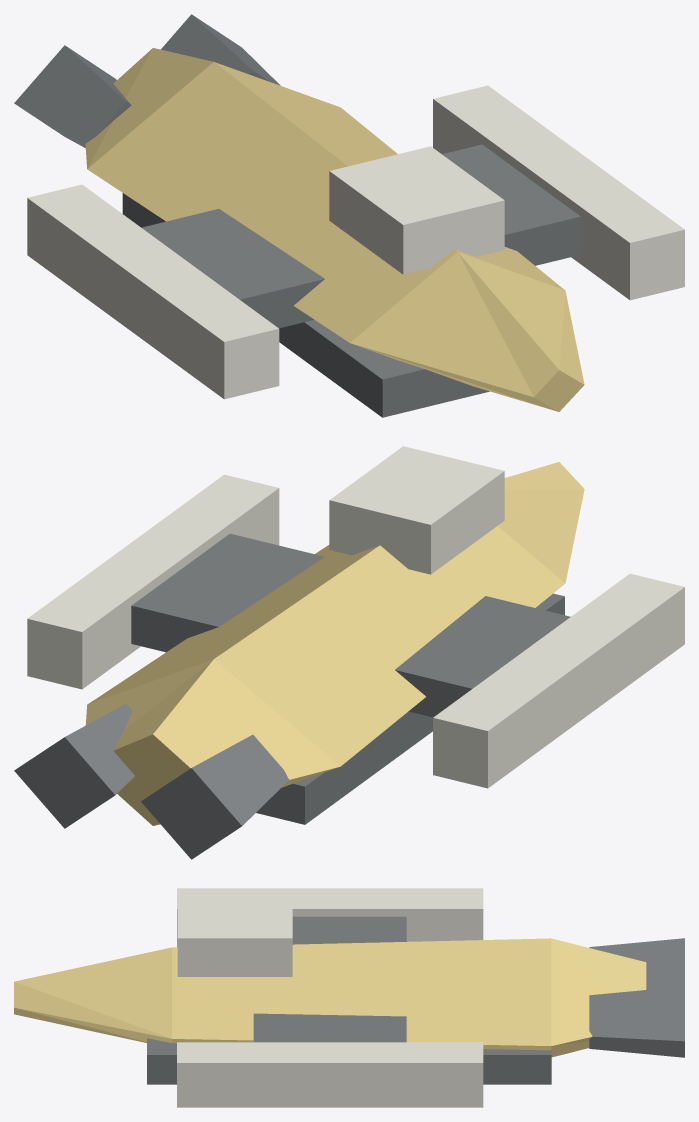
The picture shows the model from 3 angles, top to bottom: view 1: azimuth 30°, elevation 25°; view 2: azimuth 150°, elevation 25°; view 3: azimuth 270°, elevation 25°; orthographic projection. The views are drawn at different scales.
Bounding box in the file's own units: 4.84 × 1.79 × 7.84.
